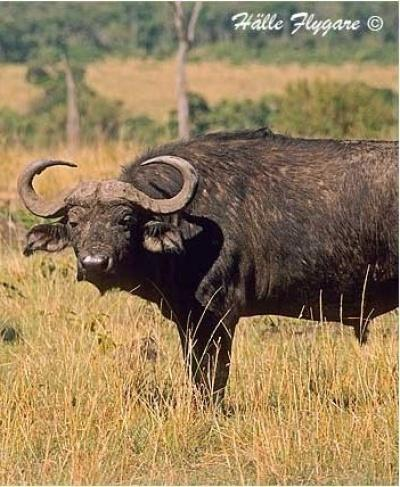buffalo: (18, 128, 397, 395)
